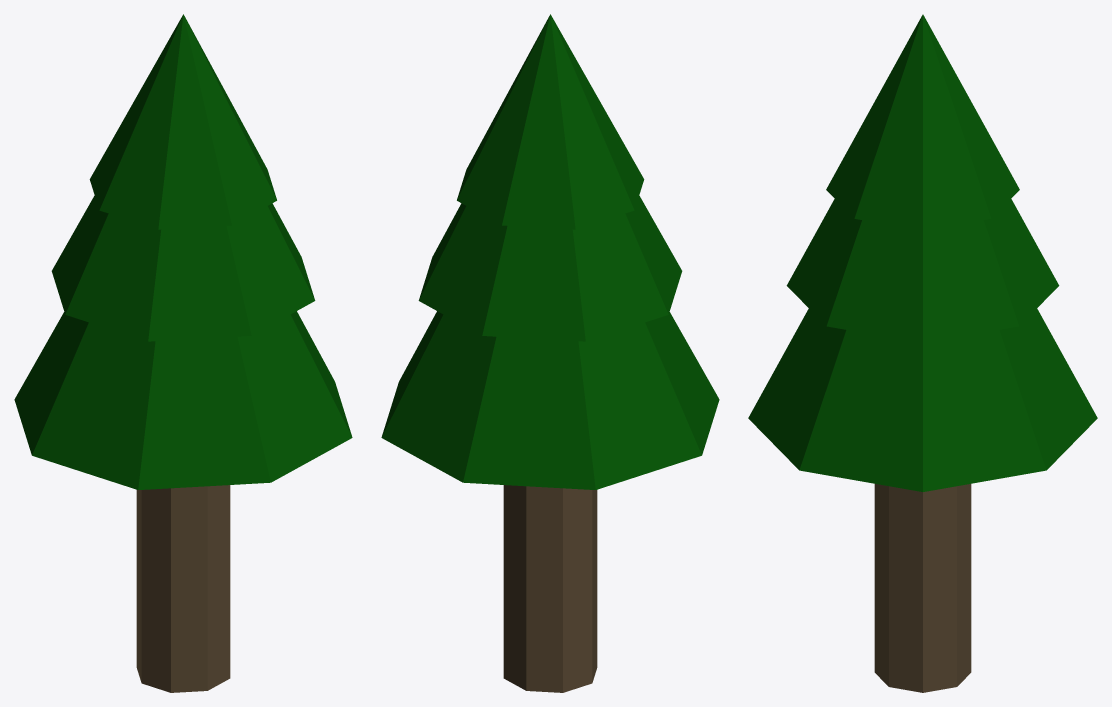
File: Tree 3.fbx
3 views of the same model, side by side, from view 1: azimuth 30°, elevation 25°; view 2: azimuth 150°, elevation 25°; view 3: azimuth 270°, elevation 25° (orthographic).
Visible parts, largest first — view 1: Tree_3; view 2: Tree_3; view 3: Tree_3.
Part boxes in pixels (bbox=[...]): Tree_3: bbox=[14, 14, 352, 692]; Tree_3: bbox=[381, 14, 719, 692]; Tree_3: bbox=[748, 14, 1097, 692].
Size of the model in its own units: 7.24 by 15.04 by 7.24.
